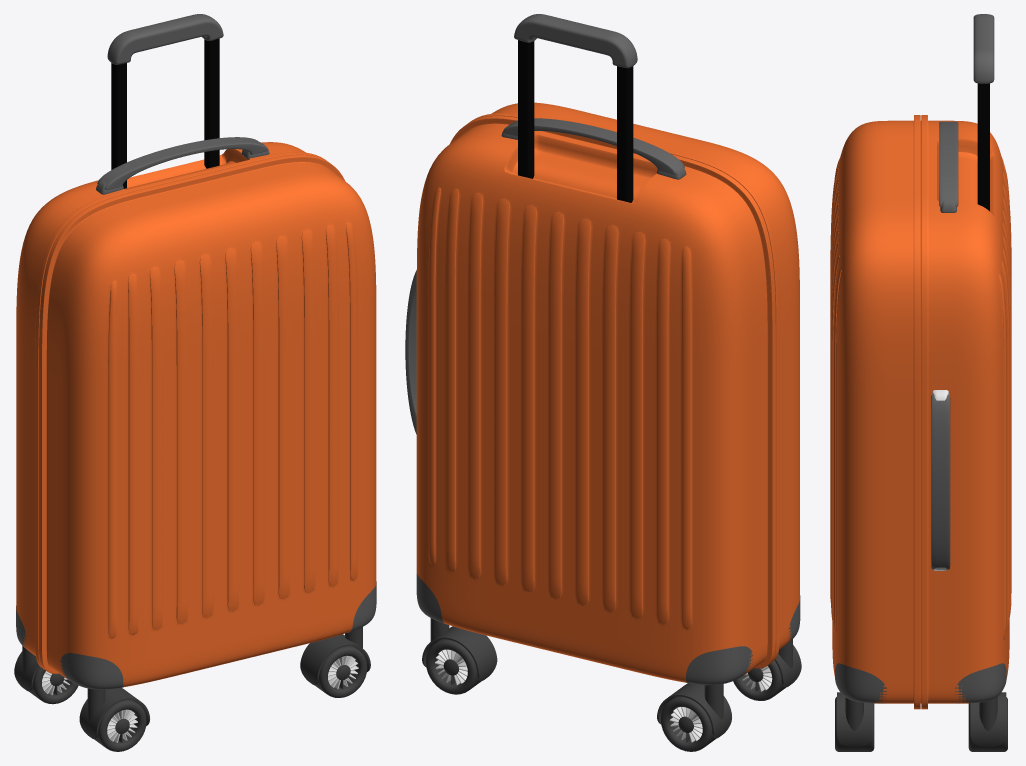
The model's file is Suitcase.c4d.fbx.
The picture shows the model from 3 angles, left to right: view 1: azimuth 30°, elevation 25°; view 2: azimuth 150°, elevation 25°; view 3: azimuth 270°, elevation 25°; orthographic projection. The views are drawn at different scales.
Parts seen in each view (by area): view 1: FRONT_SHELL, REAR_SHELL, Sweep, Cube, Corners, Tube_9, Tube_3, Tube, Tube_2, Tube_4, Tube_7; view 2: REAR_SHELL, FRONT_SHELL, Sweep, Cube, Corners_2, Tube_9, Tube_5, Tube_7, Tube_10, Tube_6, Tube_8, Tube_3; view 3: FRONT_SHELL, REAR_SHELL, Tube_10, Tube_9, Sweep, Cube, Corners, Corners_2, Tube_6, Tube_2, Tube, Tube_5 (+2 smaller).
Part boxes in pixels (left/top/right/bottom): FRONT_SHELL: left=39, top=154, right=376, bottom=687; REAR_SHELL: left=16, top=142, right=327, bottom=668; Sweep: left=111, top=38, right=219, bottom=188; Cube: left=107, top=14, right=223, bottom=64; Corners: left=60, top=581, right=376, bottom=689; Tube_9: left=97, top=137, right=267, bottom=189; Tube_3: left=94, top=700, right=146, bottom=751; Tube: left=315, top=646, right=367, bottom=697; Tube_2: left=300, top=634, right=369, bottom=685; Tube_4: left=79, top=688, right=148, bottom=738; Tube_7: left=29, top=666, right=78, bottom=704; REAR_SHELL: left=416, top=116, right=775, bottom=682; FRONT_SHELL: left=469, top=102, right=799, bottom=663; Sweep: left=518, top=40, right=633, bottom=202; Cube: left=514, top=14, right=637, bottom=68; Corners_2: left=416, top=573, right=752, bottom=685; Tube_9: left=503, top=118, right=684, bottom=174; Tube_5: left=426, top=639, right=481, bottom=694; Tube_7: left=660, top=696, right=716, bottom=751; Tube_10: left=405, top=270, right=416, bottom=434; Tube_6: left=423, top=626, right=497, bottom=680; Tube_8: left=658, top=683, right=731, bottom=738; Tube_3: left=733, top=660, right=785, bottom=700; FRONT_SHELL: left=830, top=115, right=920, bottom=709; REAR_SHELL: left=921, top=115, right=1011, bottom=709; Tube_10: left=931, top=394, right=950, bottom=569; Tube_9: left=939, top=121, right=958, bottom=206; Sweep: left=977, top=83, right=989, bottom=211; Cube: left=973, top=14, right=994, bottom=83; Corners: left=835, top=663, right=886, bottom=703; Corners_2: left=955, top=663, right=1006, bottom=703; Tube_6: left=970, top=692, right=1006, bottom=746; Tube_2: left=837, top=692, right=872, bottom=746; Tube: left=835, top=697, right=874, bottom=751; Tube_5: left=968, top=697, right=1007, bottom=751.
Size of the model in its own units: 112 by 206 by 51.2.
